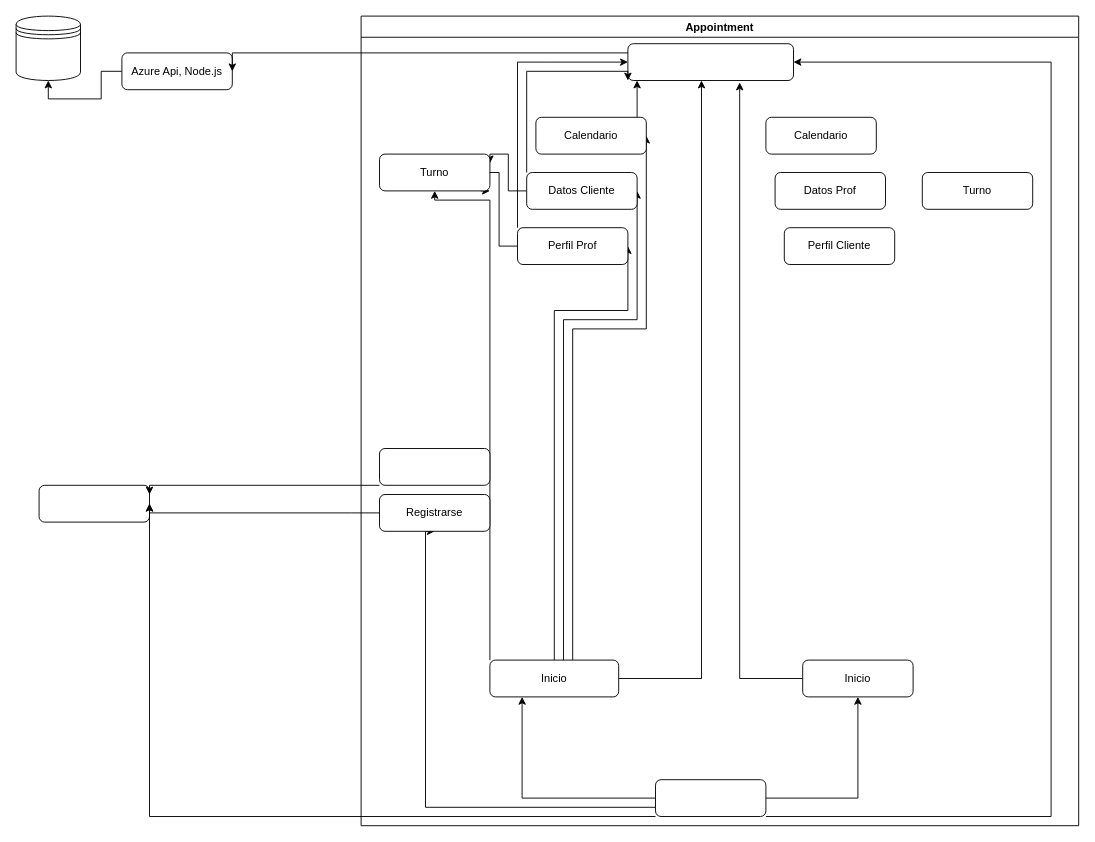
This 1095x842 diagram has some shape labels left out. The centre of each missing label's shape, as x and y in pixels:
"Api" goes at (x=710, y=61).
"FireBase" goes at (x=94, y=503).
"Inisio Sesion" goes at (x=710, y=797).
"MongoDB Atlas" goes at (x=47, y=47).
"Recuperar Password" goes at (x=434, y=466).
